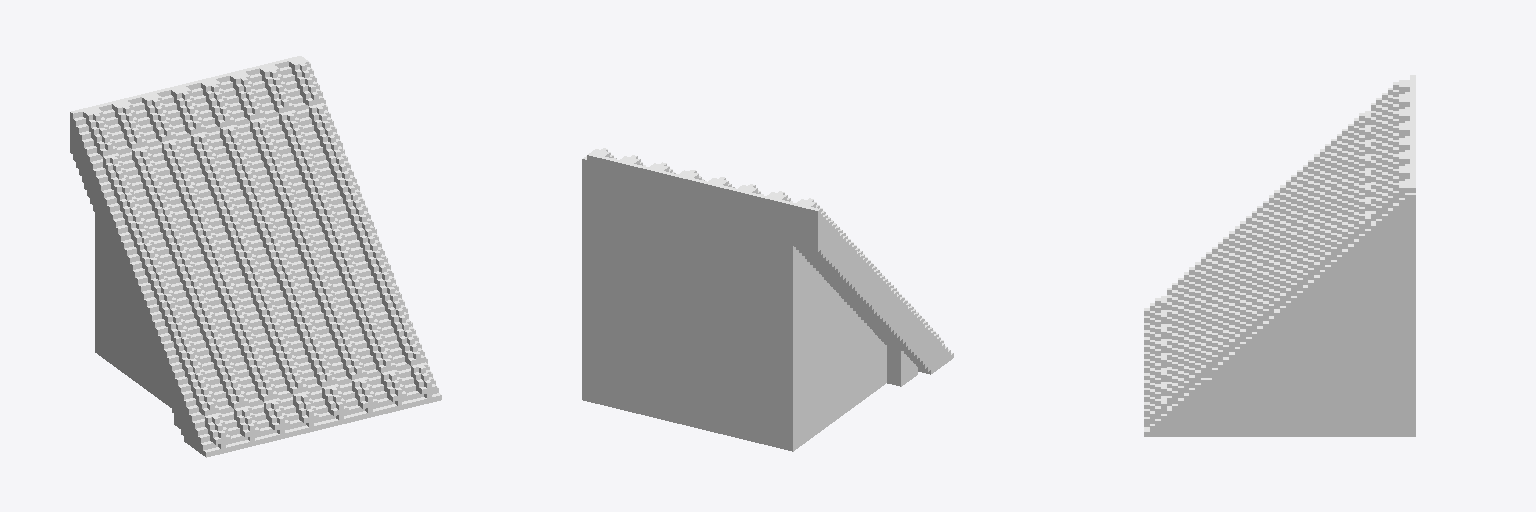
Rendered from viridian-house-2-20.obj.
3 renders of one model, left to right at view 1: azimuth 30°, elevation 25°; view 2: azimuth 150°, elevation 25°; view 3: azimuth 270°, elevation 25°, orthographic.
Visible parts, largest first — view 1: object 1; view 2: object 1; view 3: object 1.
Boxes of the visible parts, box(x1,y1,x2,y2) form: object 1: box(70, 56, 441, 457); object 1: box(582, 148, 953, 451); object 1: box(1144, 75, 1415, 436).
Bounding box in the file's own units: 4.8 × 4.8 × 4.8.